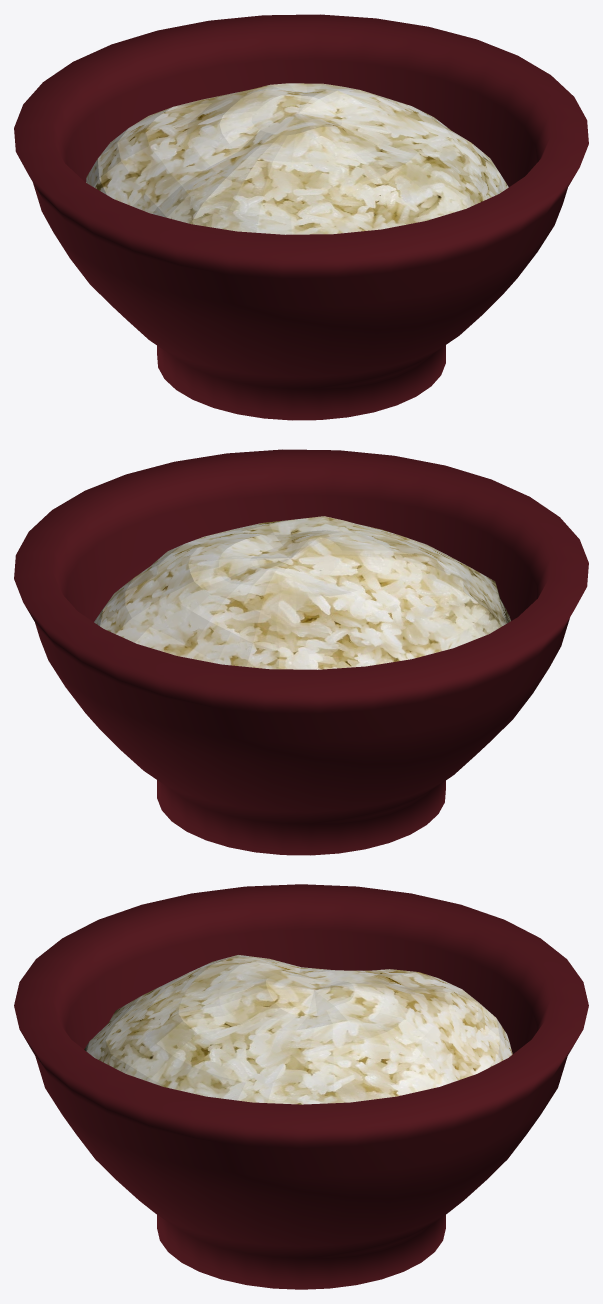
Rendered from jeera-rice.glb.
3 renders of one model, top to bottom at view 1: azimuth 30°, elevation 25°; view 2: azimuth 150°, elevation 25°; view 3: azimuth 270°, elevation 25°, orthographic.
Parts seen in each view (by area): view 1: Cylinder_0, Sphere_1; view 2: Cylinder_0, Sphere_1; view 3: Cylinder_0, Sphere_1.
Boxes of the visible parts, x1,y1,x2,y2 form: Cylinder_0: [14, 14, 588, 420]; Sphere_1: [86, 83, 508, 234]; Cylinder_0: [14, 449, 588, 855]; Sphere_1: [94, 516, 510, 669]; Cylinder_0: [14, 884, 588, 1289]; Sphere_1: [84, 955, 512, 1104].
Size of the model in its own units: 3.98 by 1.87 by 3.98.
Materials: 2 (1 with a texture image).
